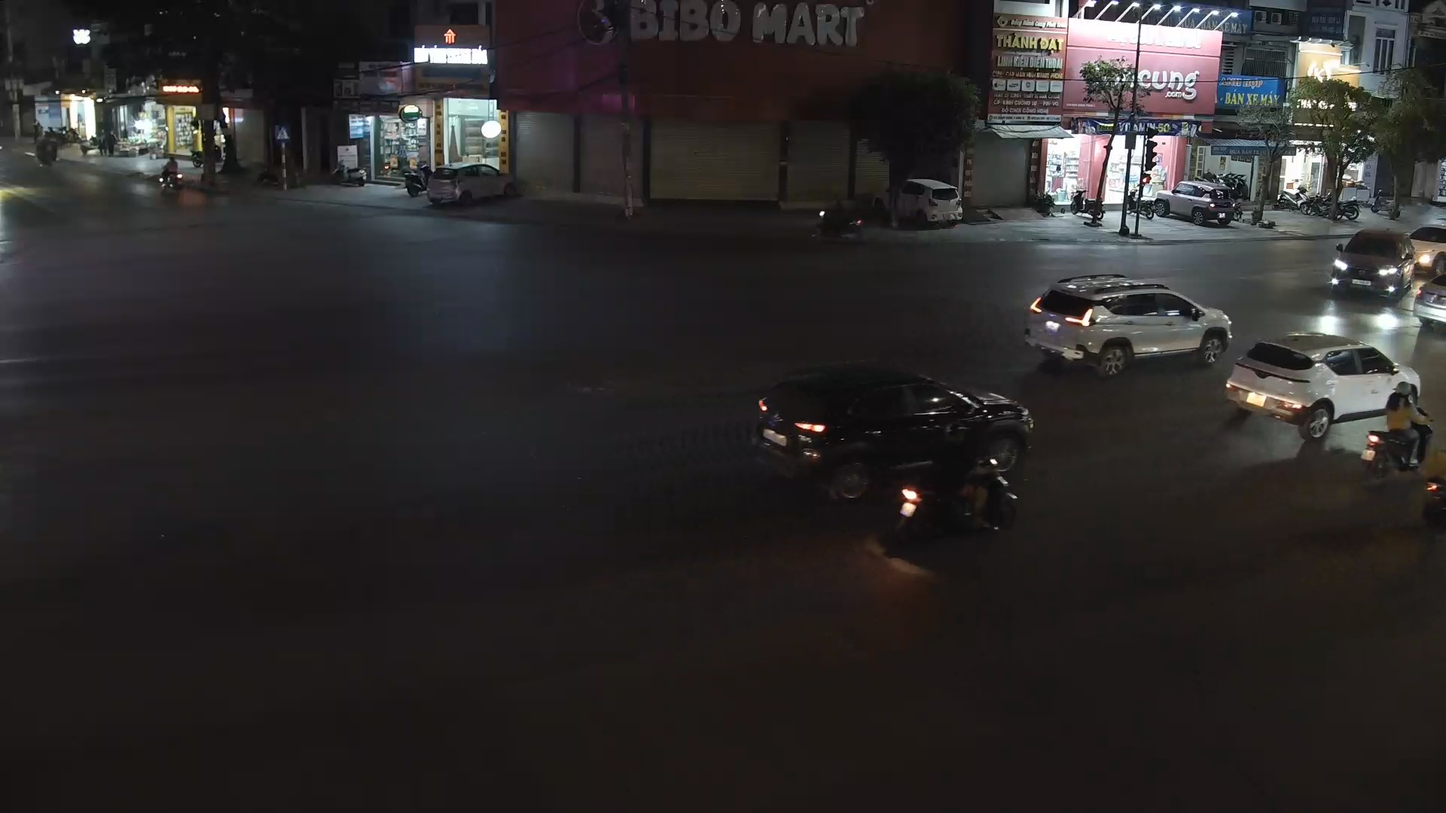car: (749, 364, 1035, 504), (1222, 333, 1421, 443), (1023, 274, 1234, 376), (1328, 223, 1417, 302), (1410, 241, 1445, 335)
motorbike: (894, 416, 1023, 543), (1360, 375, 1435, 483)
